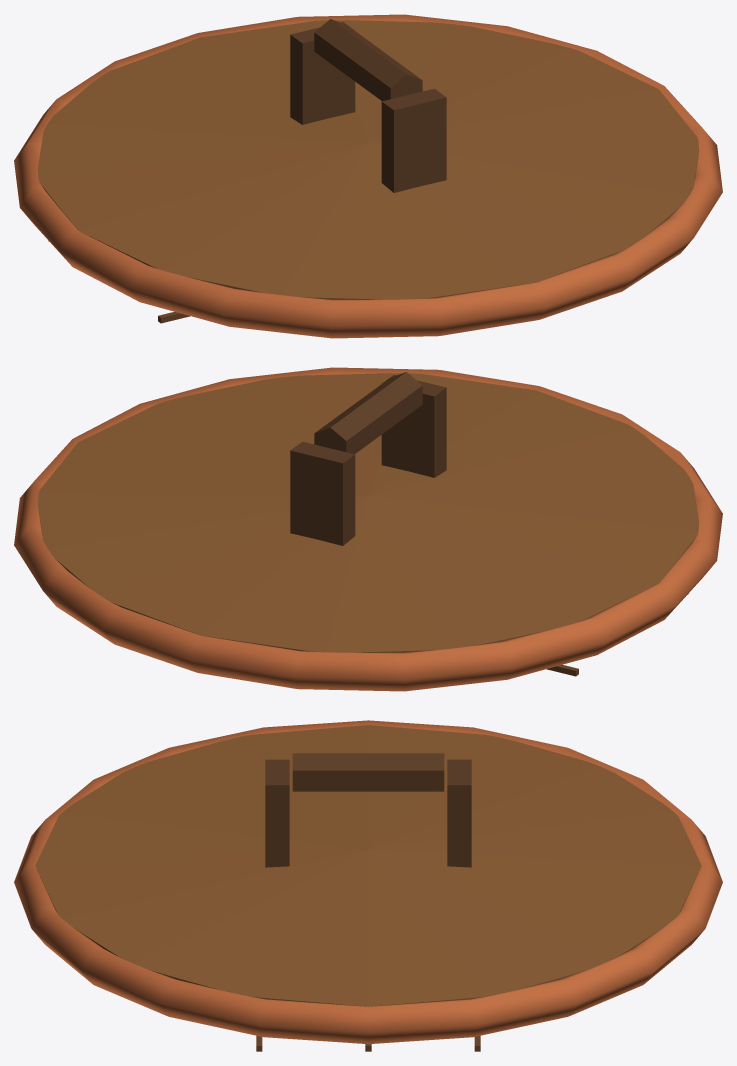
File: Weapon_Shield_Copper.fbx
The picture shows the model from 3 angles, top to bottom: view 1: azimuth 30°, elevation 25°; view 2: azimuth 150°, elevation 25°; view 3: azimuth 270°, elevation 25°; orthographic projection.
Parts seen in each view (by area): view 1: Weapon_Shield_Copper; view 2: Weapon_Shield_Copper; view 3: Weapon_Shield_Copper.
Part boxes in pixels (<box>): Weapon_Shield_Copper: <box>14,14,722,338</box>; Weapon_Shield_Copper: <box>14,367,722,691</box>; Weapon_Shield_Copper: <box>14,720,722,1051</box>.
Size of the model in its own units: 23.4 by 7.63 by 23.4.
